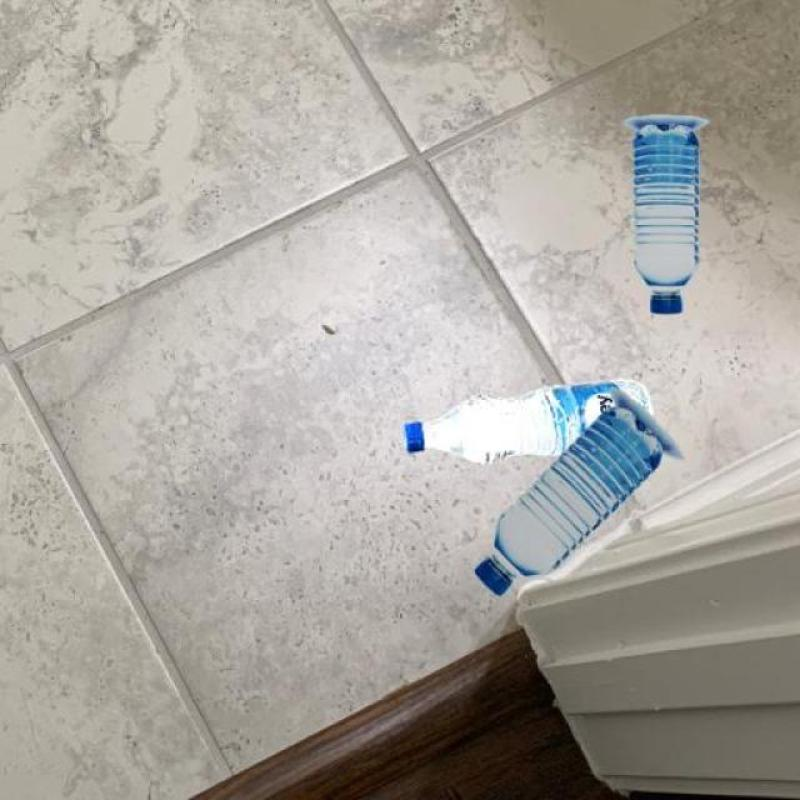botella: (472, 406, 664, 600), (404, 384, 654, 464), (635, 120, 701, 312)
